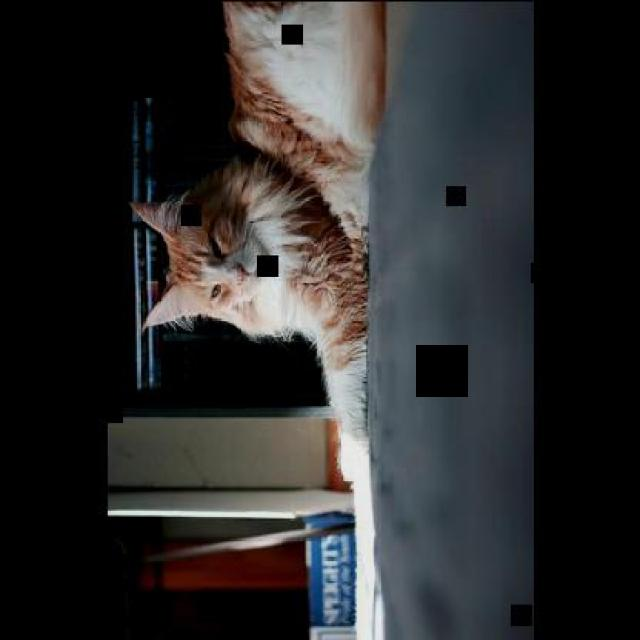unauthorized: (128, 0, 388, 482)
